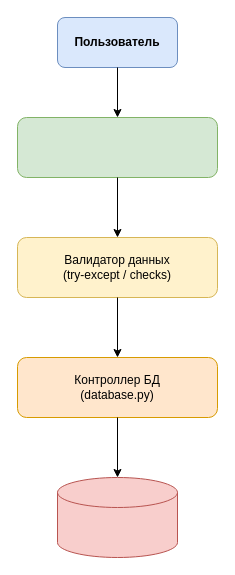
Image size: 235x575. Some labels were removed from this diagram. Each missing label, with the box of its shape:
GUI (Tkinter) Main Window: (16, 116, 218, 178)
SQLite СУБД (rashodi + kategorii): (56, 476, 178, 558)
